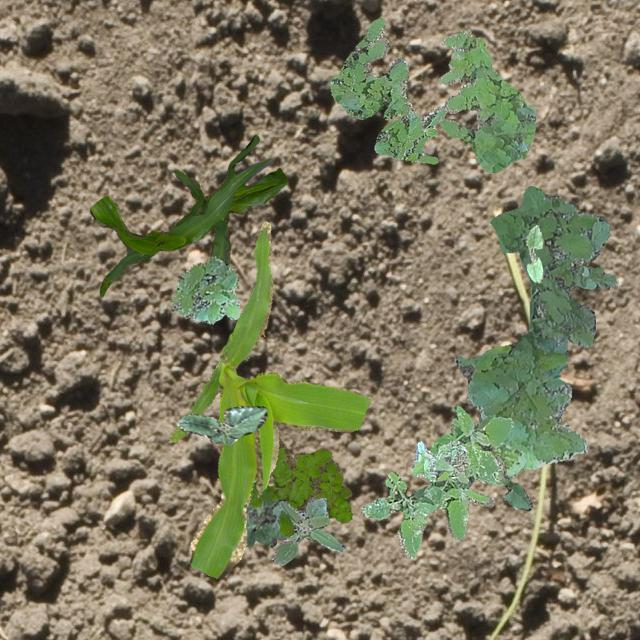crop: (168, 220, 368, 578), (88, 134, 286, 296), (176, 404, 266, 444), (245, 498, 288, 546), (499, 472, 532, 510), (524, 224, 542, 282)
weed: (454, 184, 616, 486), (360, 406, 512, 558), (330, 16, 446, 162), (438, 28, 534, 170), (248, 436, 352, 536), (274, 496, 344, 564), (170, 256, 238, 324), (410, 439, 470, 484)
